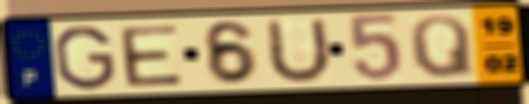5: (344, 11, 406, 85)
6: (199, 20, 262, 88)
E: (116, 23, 186, 89)
G: (51, 24, 119, 92)
Q: (406, 13, 479, 80)
U: (265, 15, 334, 87)
